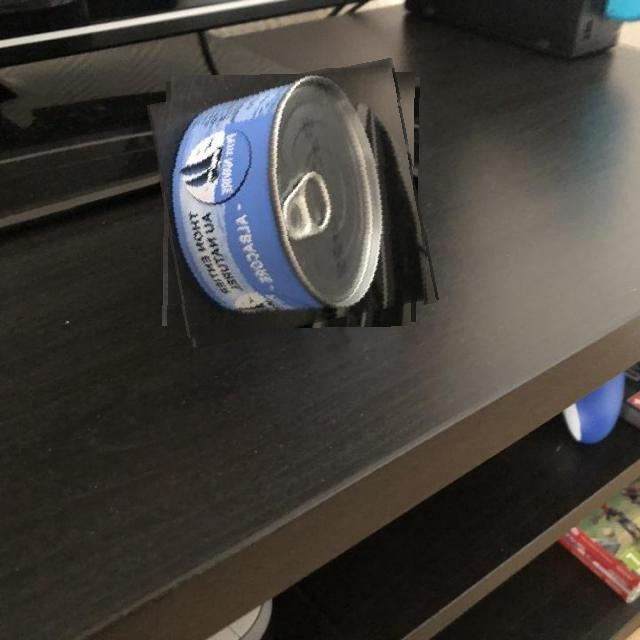recyclable: (158, 68, 428, 339)
